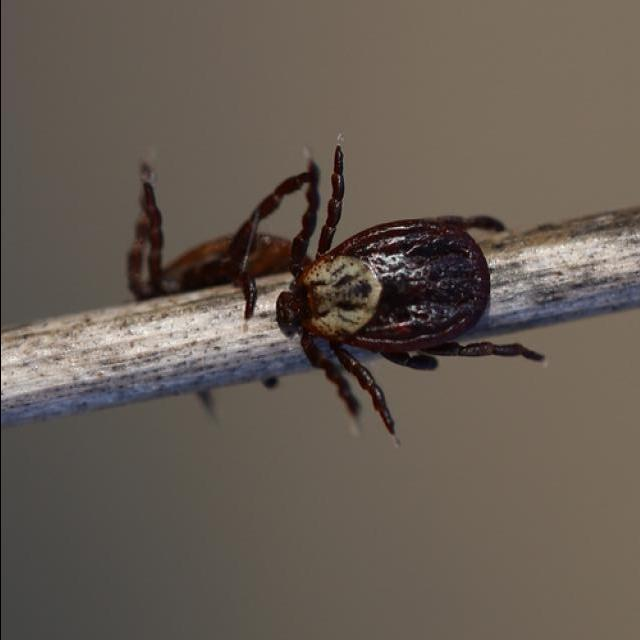Dermacentor Reticulatus-F: (274, 141, 544, 446)
